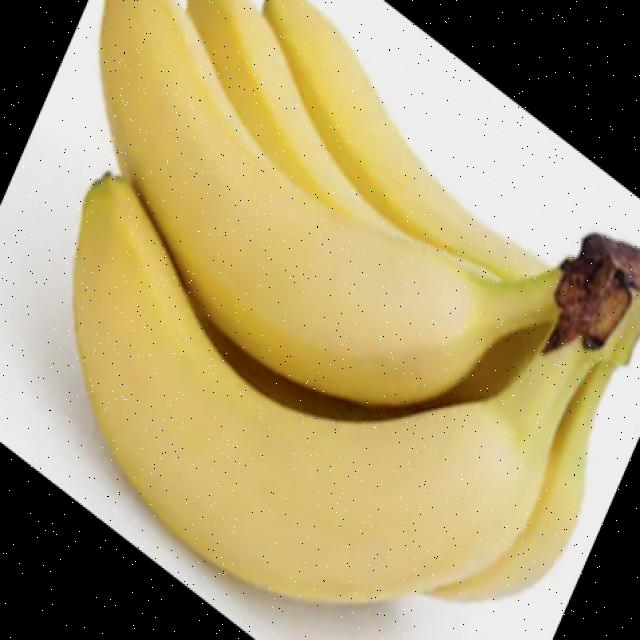god quality banana: (72, 0, 640, 604)
